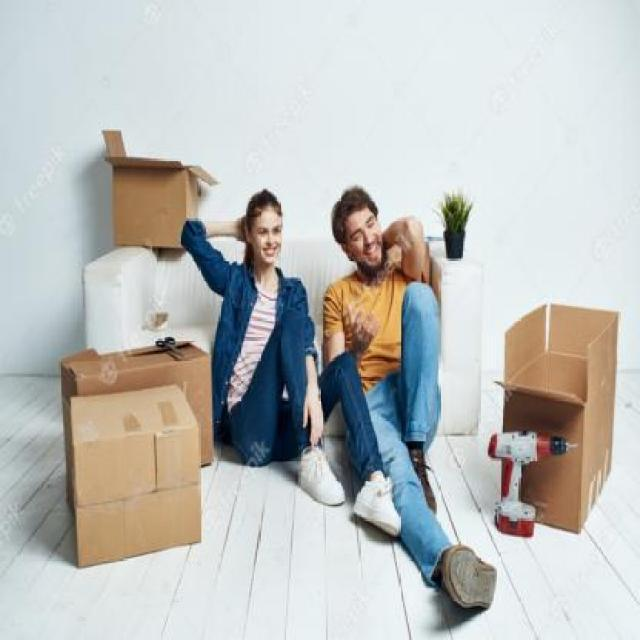box: (488, 303, 623, 537), (63, 391, 209, 573), (62, 335, 224, 468), (105, 133, 211, 251)
